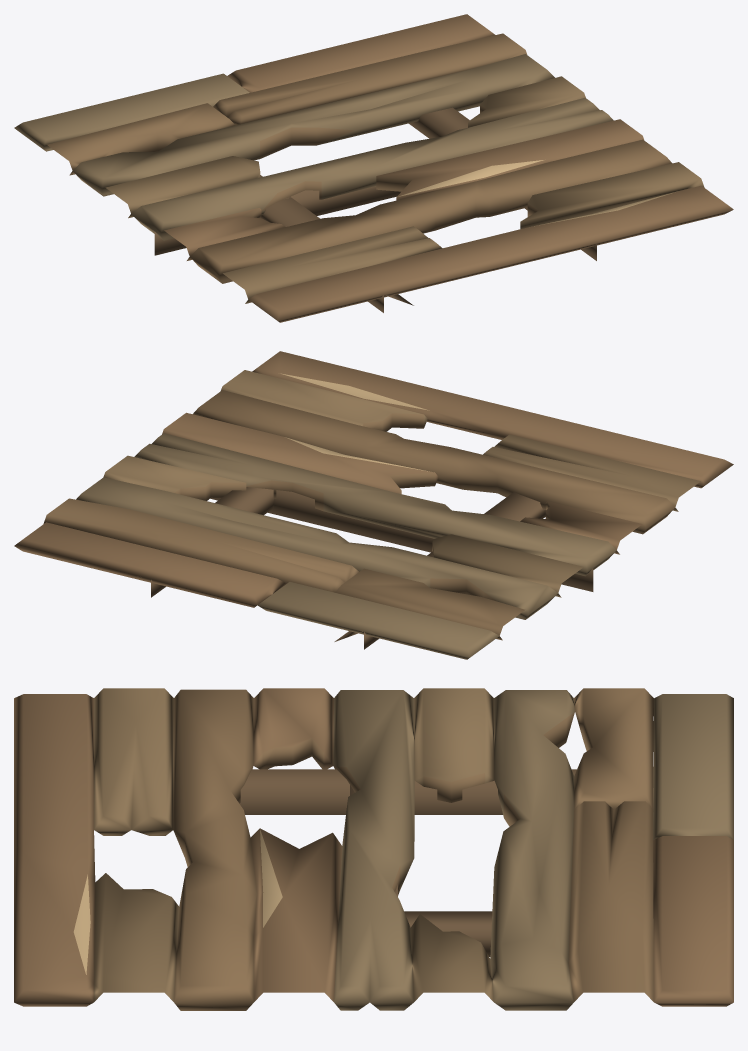
The model's file is rpgpp_av_floor_02a_3x3_2side.gltf.
3 views of the same model, one above another, from view 1: azimuth 30°, elevation 25°; view 2: azimuth 150°, elevation 25°; view 3: azimuth 270°, elevation 25° (orthographic). The views are drawn at different scales.
Visible parts, largest first — view 1: rpgpp_av_floor_02a_3x3_2side; view 2: rpgpp_av_floor_02a_3x3_2side; view 3: rpgpp_av_floor_02a_3x3_2side.
Boxes of the visible parts, <box> form: rpgpp_av_floor_02a_3x3_2side: <box>14,14,733,322</box>; rpgpp_av_floor_02a_3x3_2side: <box>14,351,733,659</box>; rpgpp_av_floor_02a_3x3_2side: <box>14,688,733,1010</box>.
Size of the model in its own units: 0.03 by 0.00215 by 0.03.
1 material, 1 textured.
